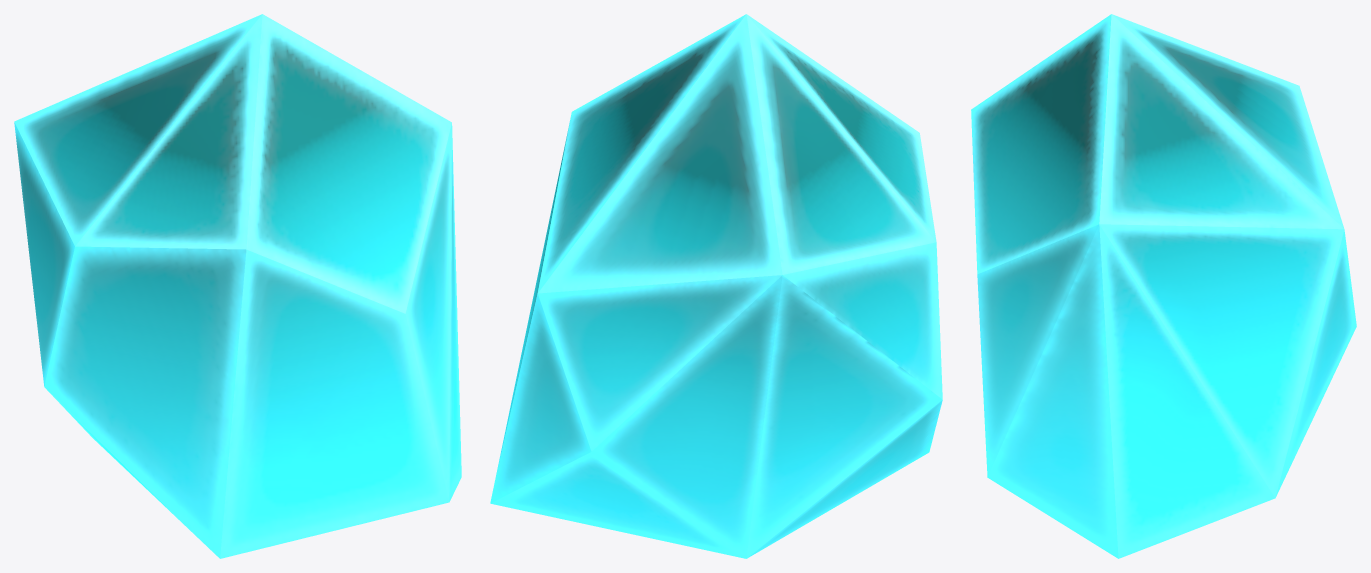
The model's file is crystal_piece_004.fbx.
3 views of the same model, side by side, from view 1: azimuth 30°, elevation 25°; view 2: azimuth 150°, elevation 25°; view 3: azimuth 270°, elevation 25° (orthographic). The views are drawn at different scales.
Parts seen in each view (by area): view 1: crystal_piece_004; view 2: crystal_piece_004; view 3: crystal_piece_004.
Boxes of the visible parts, bbox=[...] form: crystal_piece_004: bbox=[14, 14, 461, 558]; crystal_piece_004: bbox=[490, 14, 942, 558]; crystal_piece_004: bbox=[971, 14, 1356, 558].
Bounding box in the file's own units: 0.6343 × 0.76 × 0.5813.
